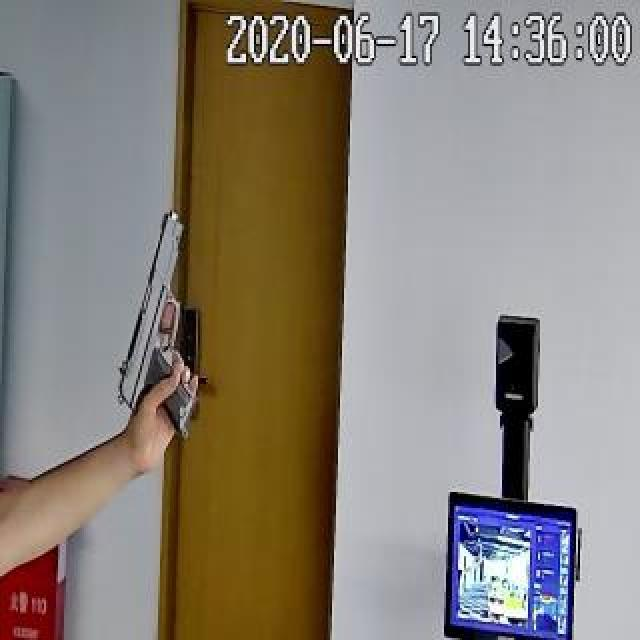Guns: (81, 194, 228, 456)
